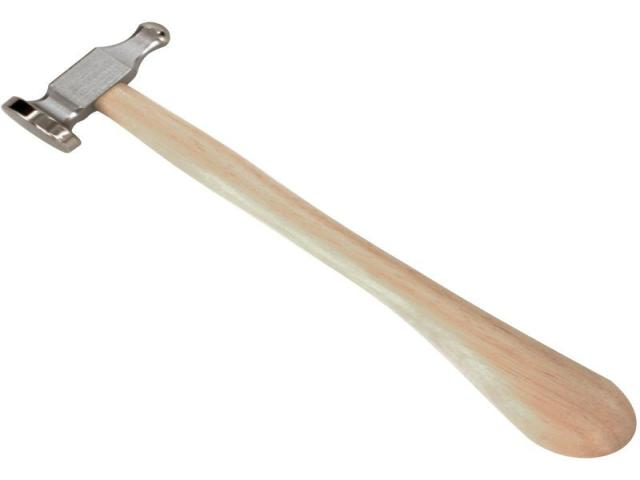hammer: (1, 20, 640, 458)
